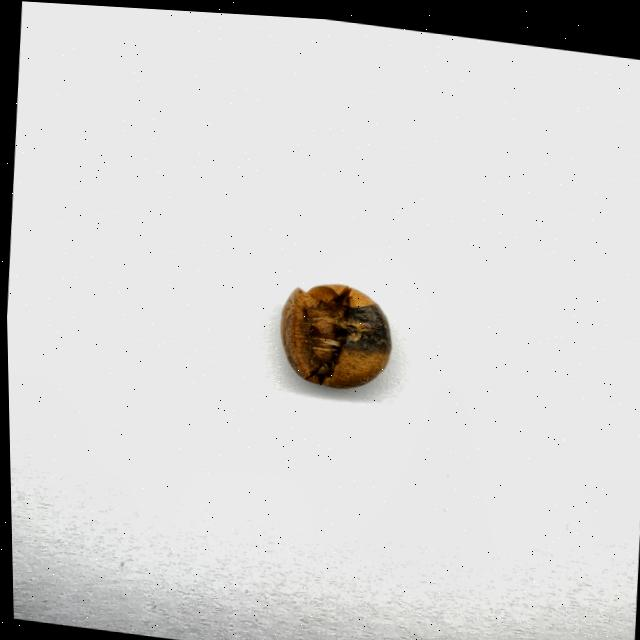Scorched: (273, 271, 394, 391)
